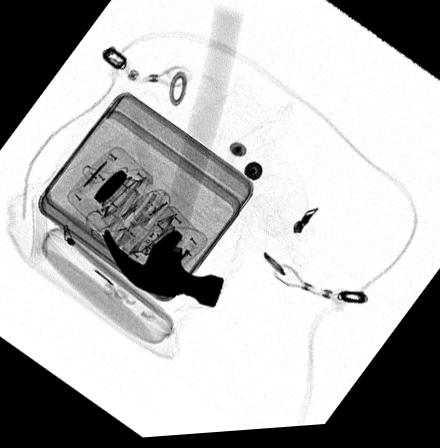Hammer: (103, 6, 243, 310)
